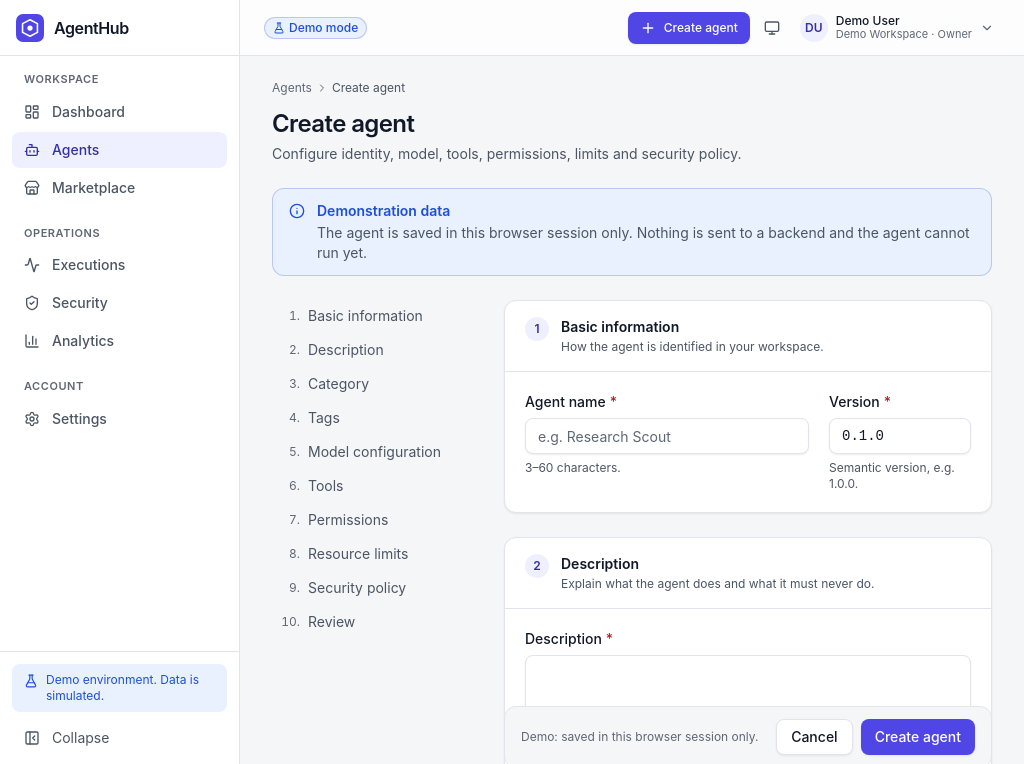
Test: create agent form › creates an agent from valid input and opens its detail page
This screenshot has width=1024, height=764.
Expected: the heading "Create agent" is shown, [272, 109, 414, 138]
In the field labelled "Agent name *": x=667, y=436 [525, 418, 809, 454], type "Release Notes Writer"
(page scrolled)
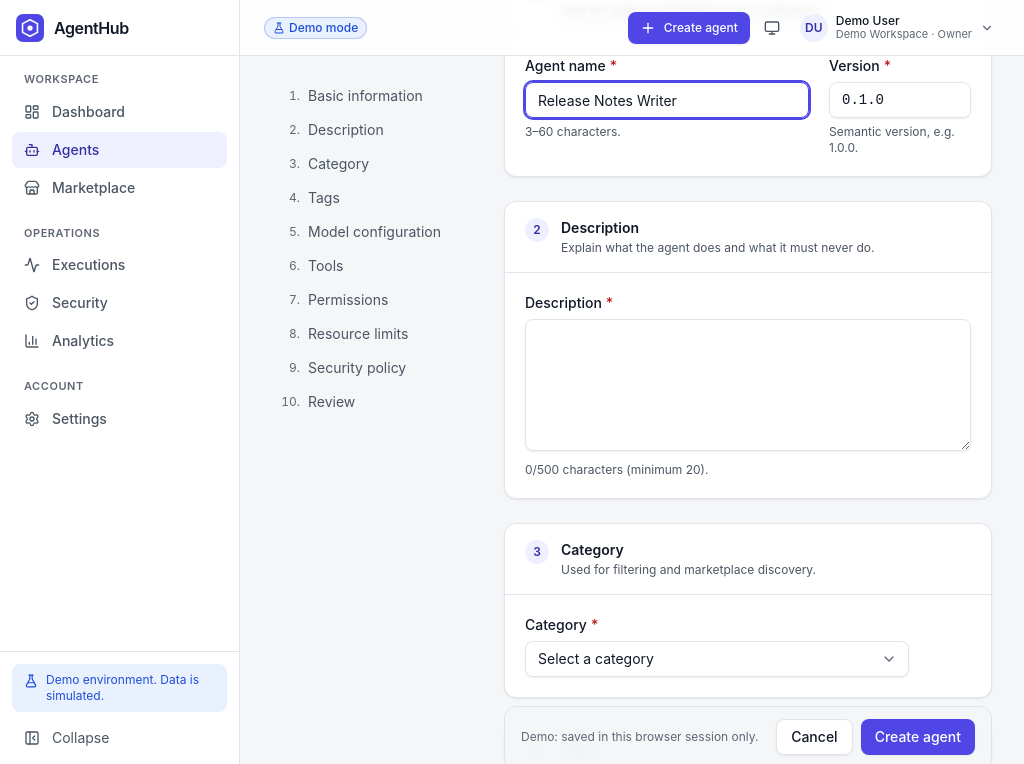
In the text box labelled "Description *": x=748, y=385 [525, 319, 971, 451], type "Drafts release notes from merged pull requests for review."
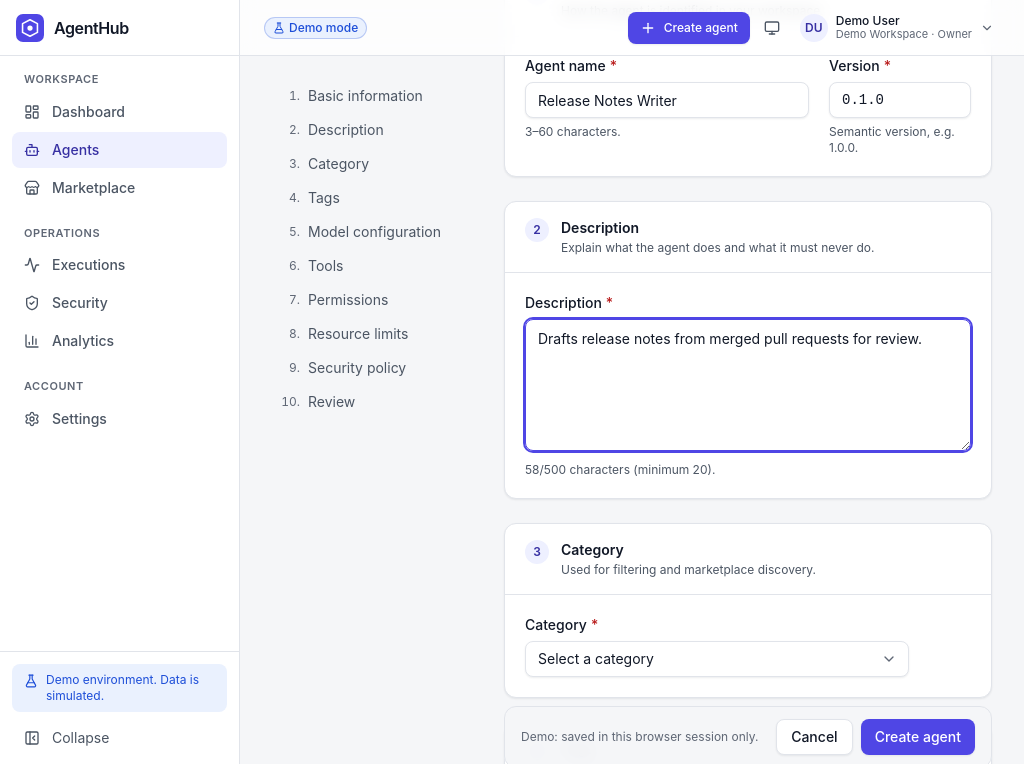
Select "Engineering" in the dropdown labelled "Category *": x=717, y=659 [525, 641, 909, 677]
(page scrolled)
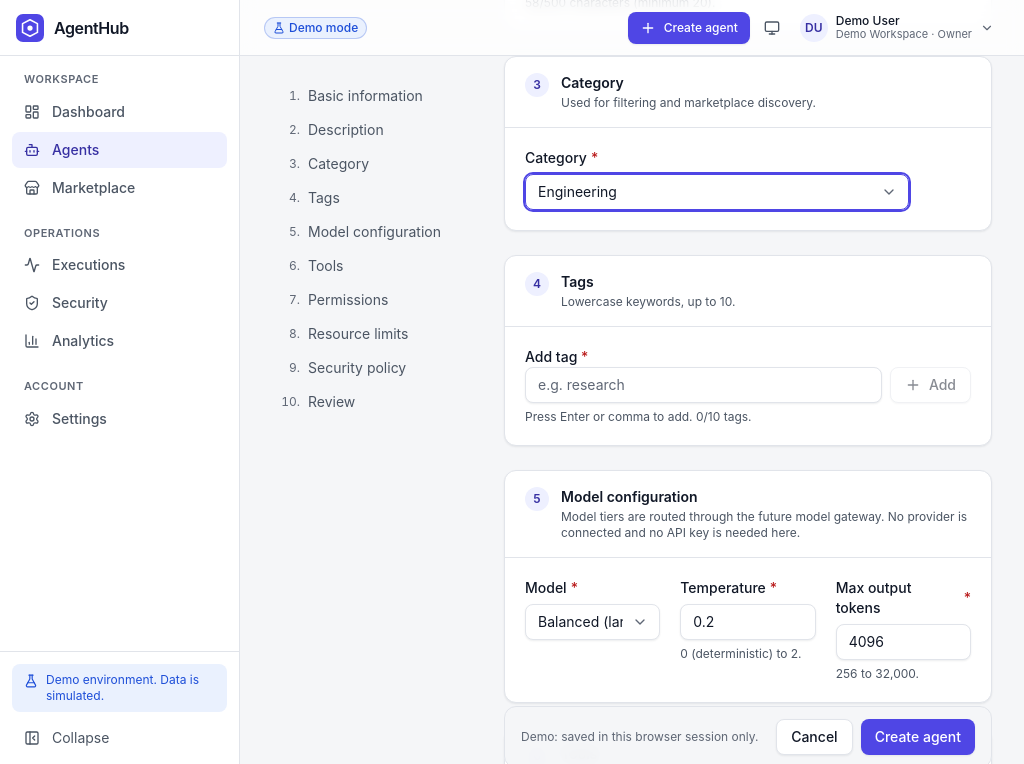
In the field labelled "Add tag *": x=703, y=385 [525, 367, 882, 403], type "release"
Then press Enter
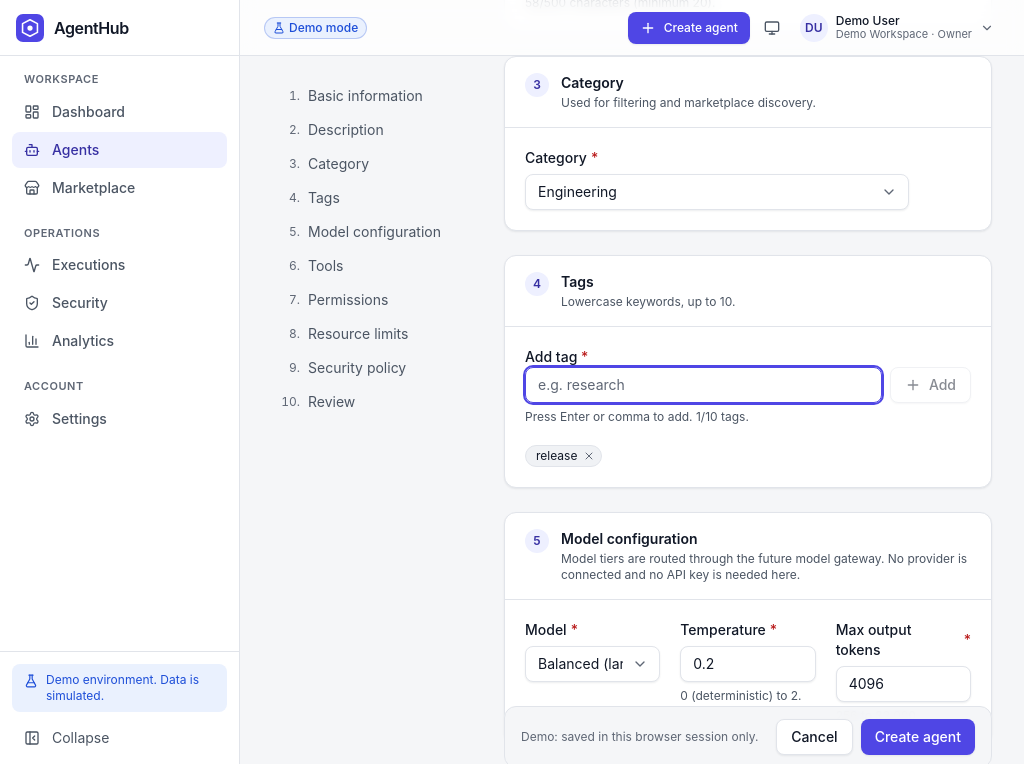
Click the button "Create agent": x=918, y=737 [861, 719, 975, 755]
(page scrolled)
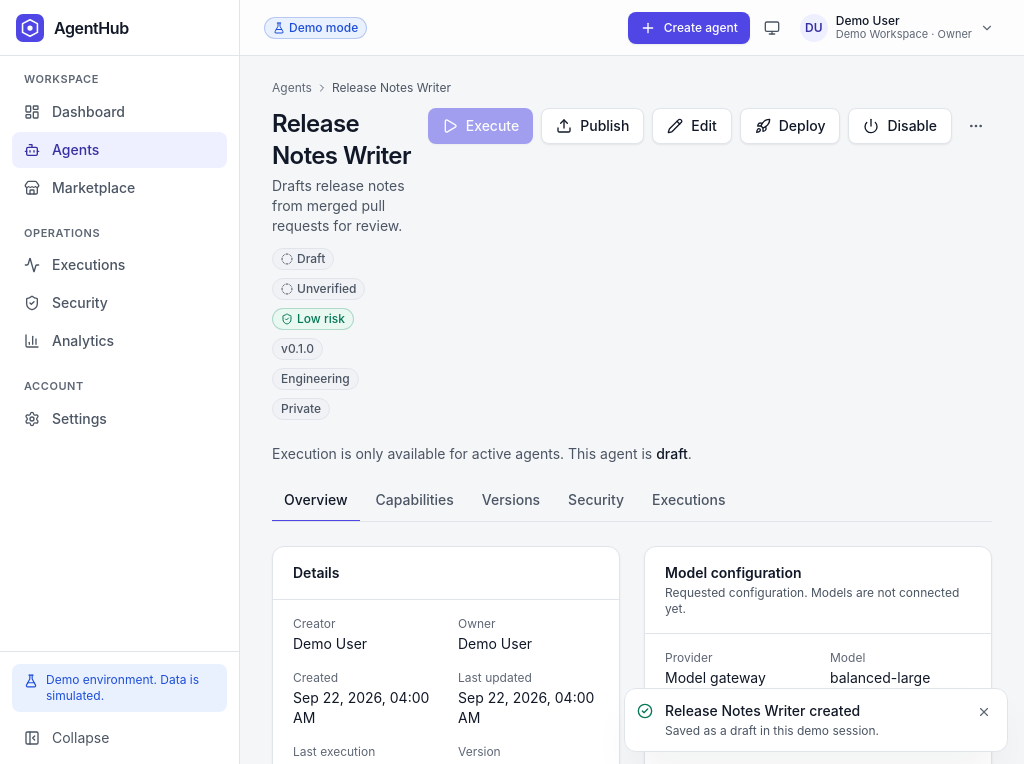
Result: the text "Release Notes Writer created" is shown at [665, 702, 860, 719]
Result: the heading "Release Notes Writer" is shown at [272, 108, 412, 172]
Result: the text "Draft" is shown at [297, 251, 325, 267]
